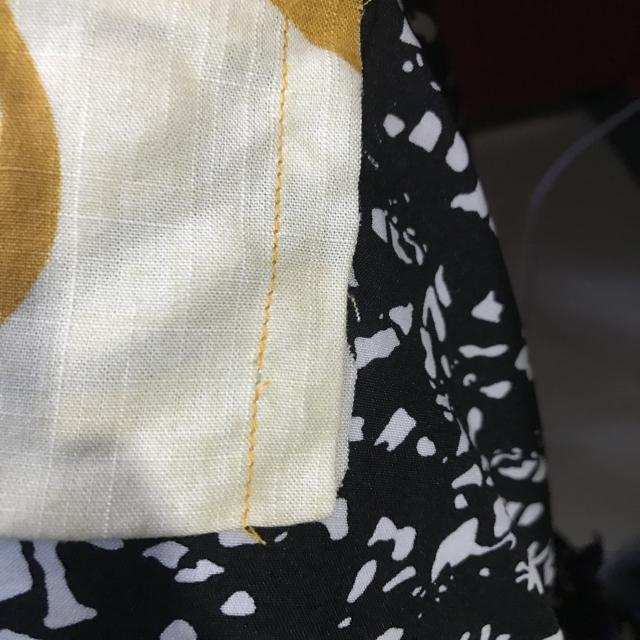broken: (238, 334, 287, 404)
